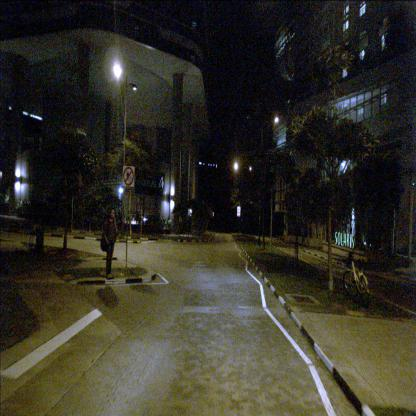human-pedestrian-adult: (100, 207, 118, 280)
vehicle-bicycle: (342, 242, 370, 306)
